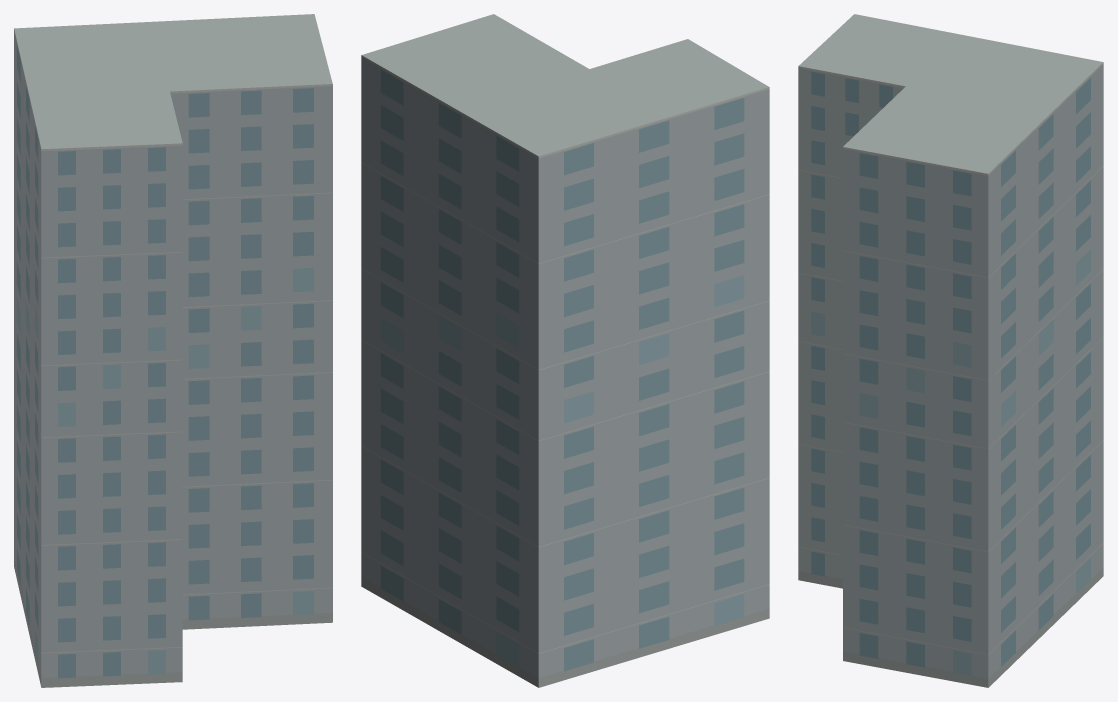
The model's file is survey-upis-32741145.glb.
3 renders of one model, left to right at view 1: azimuth 30°, elevation 25°; view 2: azimuth 150°, elevation 25°; view 3: azimuth 270°, elevation 25°, orthographic. The views are drawn at different scales.
Parts seen in each view (by area): view 1: survey-upis-32741145.tmp; view 2: survey-upis-32741145.tmp; view 3: survey-upis-32741145.tmp.
Part boxes in pixels (left/top/right/bottom): survey-upis-32741145.tmp: left=14, top=14, right=332, bottom=687; survey-upis-32741145.tmp: left=361, top=14, right=769, bottom=687; survey-upis-32741145.tmp: left=798, top=14, right=1103, bottom=687.
Size of the model in its own units: 42.91 by 64.3 by 34.62.
